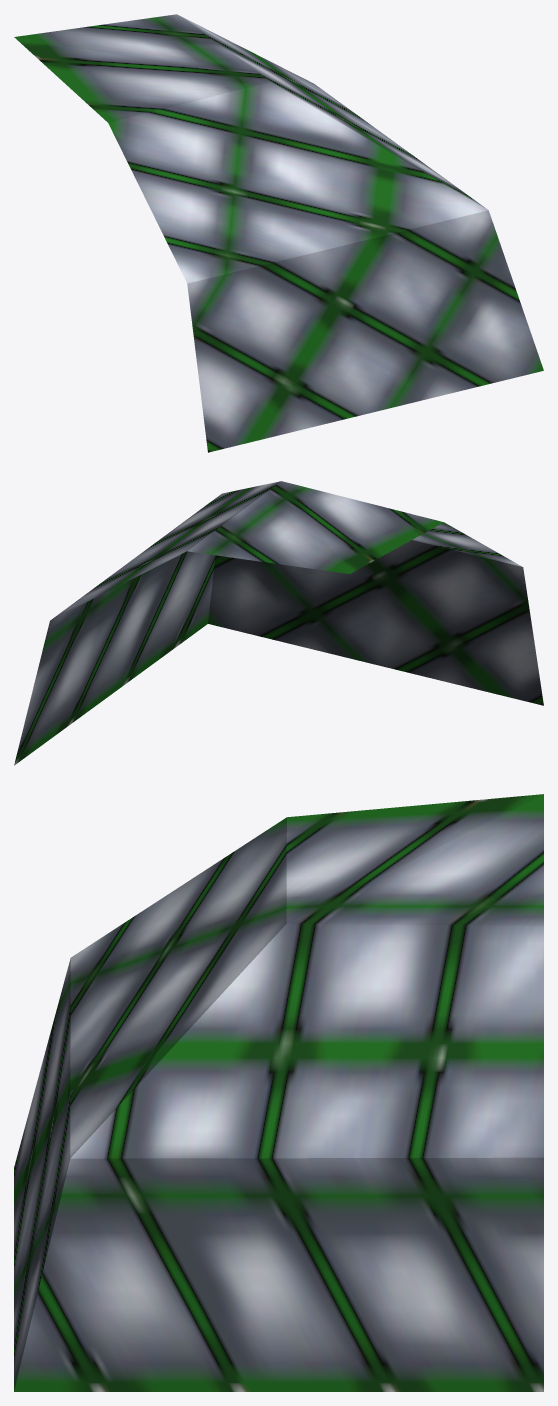
File: Dach_HalbtonneEckverschluß [GrünesGlas]_263.glb
The picture shows the model from 3 angles, top to bottom: view 1: azimuth 30°, elevation 25°; view 2: azimuth 150°, elevation 25°; view 3: azimuth 270°, elevation 25°; orthographic projection. The views are drawn at different scales.
Visible parts, largest first — view 1: polySurfaceShape1074; view 2: polySurfaceShape1074; view 3: polySurfaceShape1074.
Boxes of the visible parts, left/top/right/bottom form: polySurfaceShape1074: left=14, top=14, right=543, bottom=452; polySurfaceShape1074: left=14, top=481, right=543, bottom=765; polySurfaceShape1074: left=14, top=794, right=543, bottom=1391.
Size of the model in its own units: 0.5 by 0.3891 by 0.5.
1 material, 1 textured.
